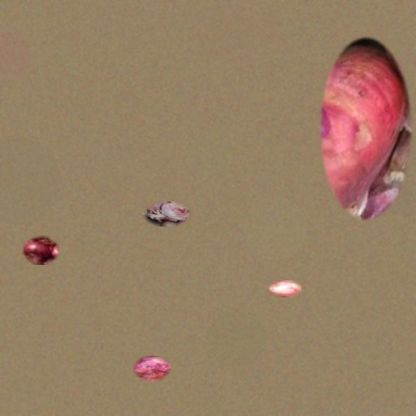damaged: (133, 356, 171, 381)
healthy: (318, 32, 414, 225), (22, 236, 59, 265)
rotten: (267, 280, 301, 297)
sprouted: (143, 201, 191, 227)
